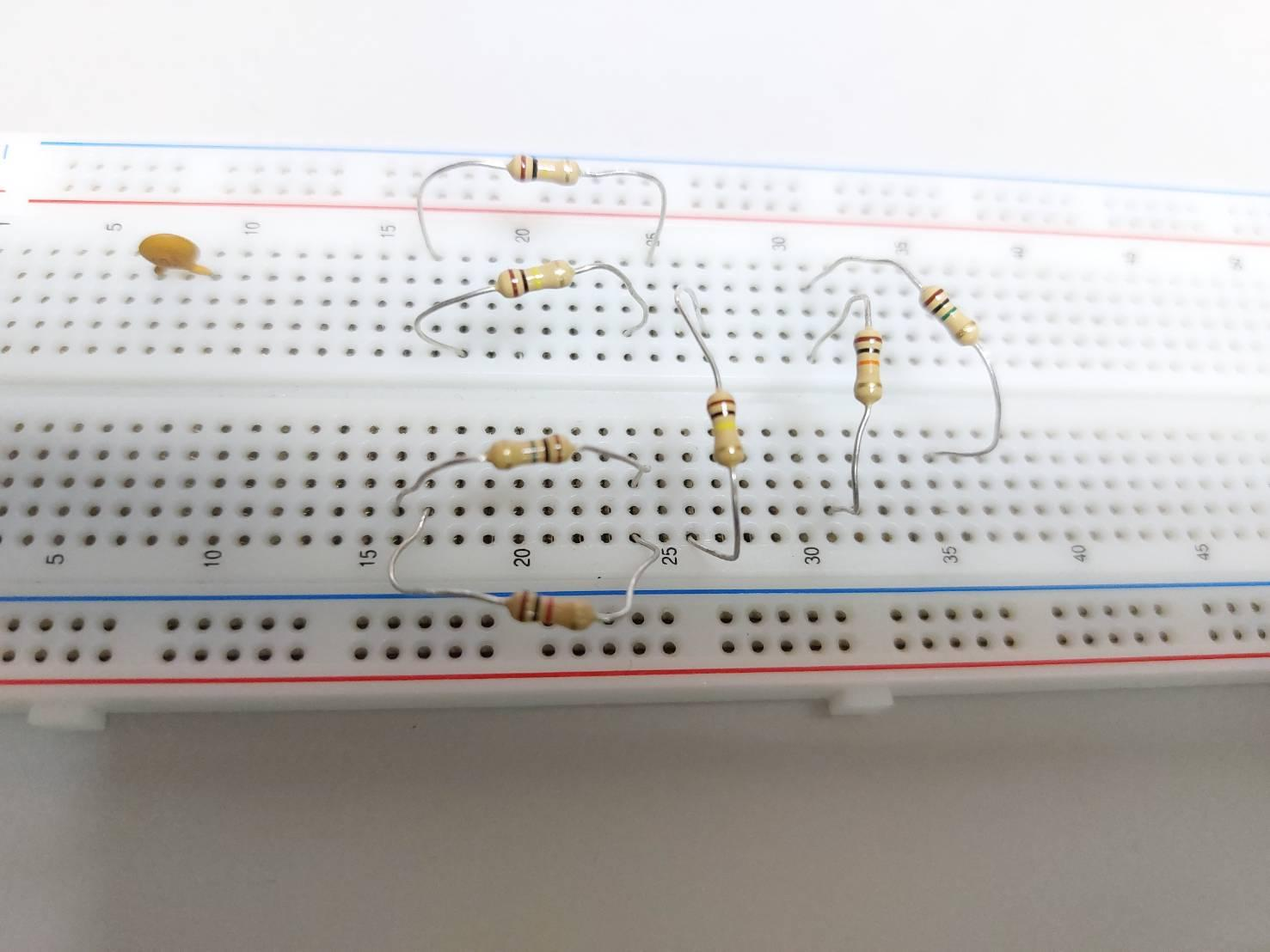resistor: (505, 589, 597, 633), (919, 282, 981, 346), (705, 390, 746, 468), (497, 261, 576, 297), (486, 435, 571, 468), (507, 153, 583, 185), (854, 327, 884, 404)
